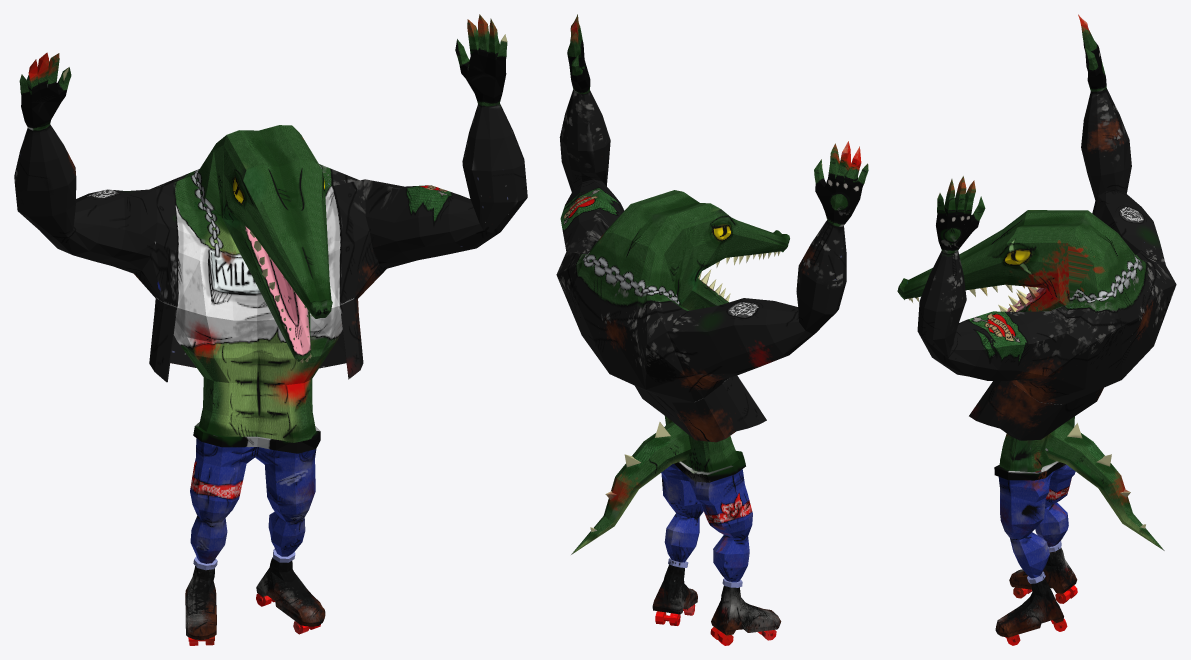
File: cocodrilaBonesSelect_000040.obj
3 views of the same model, side by side, from view 1: azimuth 30°, elevation 25°; view 2: azimuth 150°, elevation 25°; view 3: azimuth 270°, elevation 25° (orthographic). The views are drawn at different scales.
Visible parts, largest first — view 1: Crocodile.002_Cylinder.002; view 2: Crocodile.002_Cylinder.002; view 3: Crocodile.002_Cylinder.002.
Part boxes in pixels (x1,y1,x2,y2): Crocodile.002_Cylinder.002: (14,14,527,645); Crocodile.002_Cylinder.002: (556,14,868,645); Crocodile.002_Cylinder.002: (897,14,1176,645).
Bounding box in the file's own units: 6.07 × 8.32 × 3.97.
